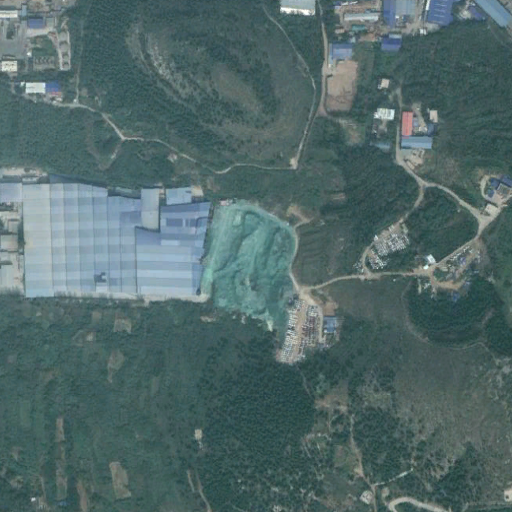cw: (204, 202, 298, 323)
